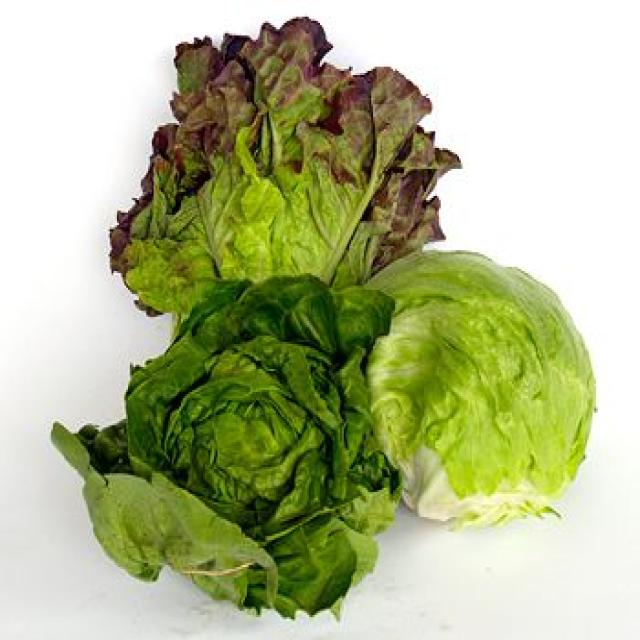lettuce: (54, 276, 400, 617), (112, 19, 458, 314), (368, 253, 594, 525)
